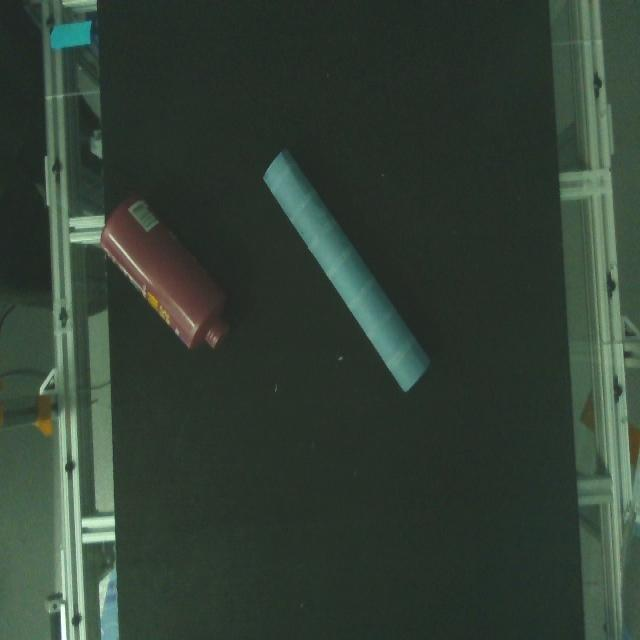non-paper: (92, 182, 243, 353)
paper: (255, 139, 440, 405)
